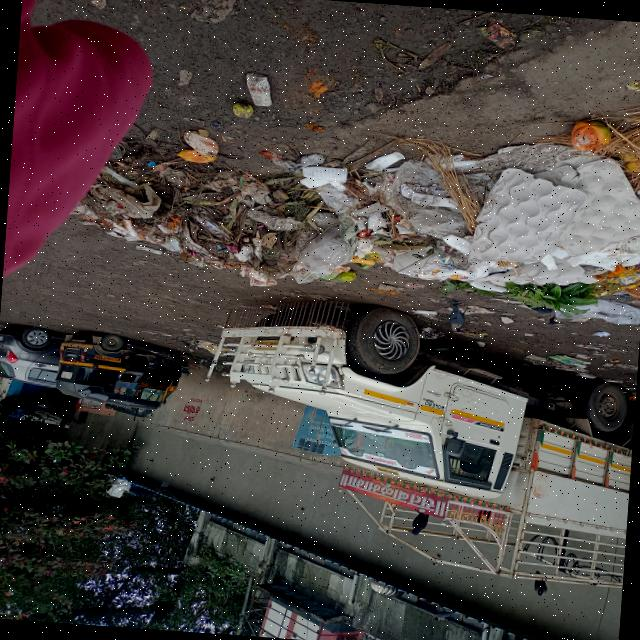garbage: (94, 88, 640, 311)
